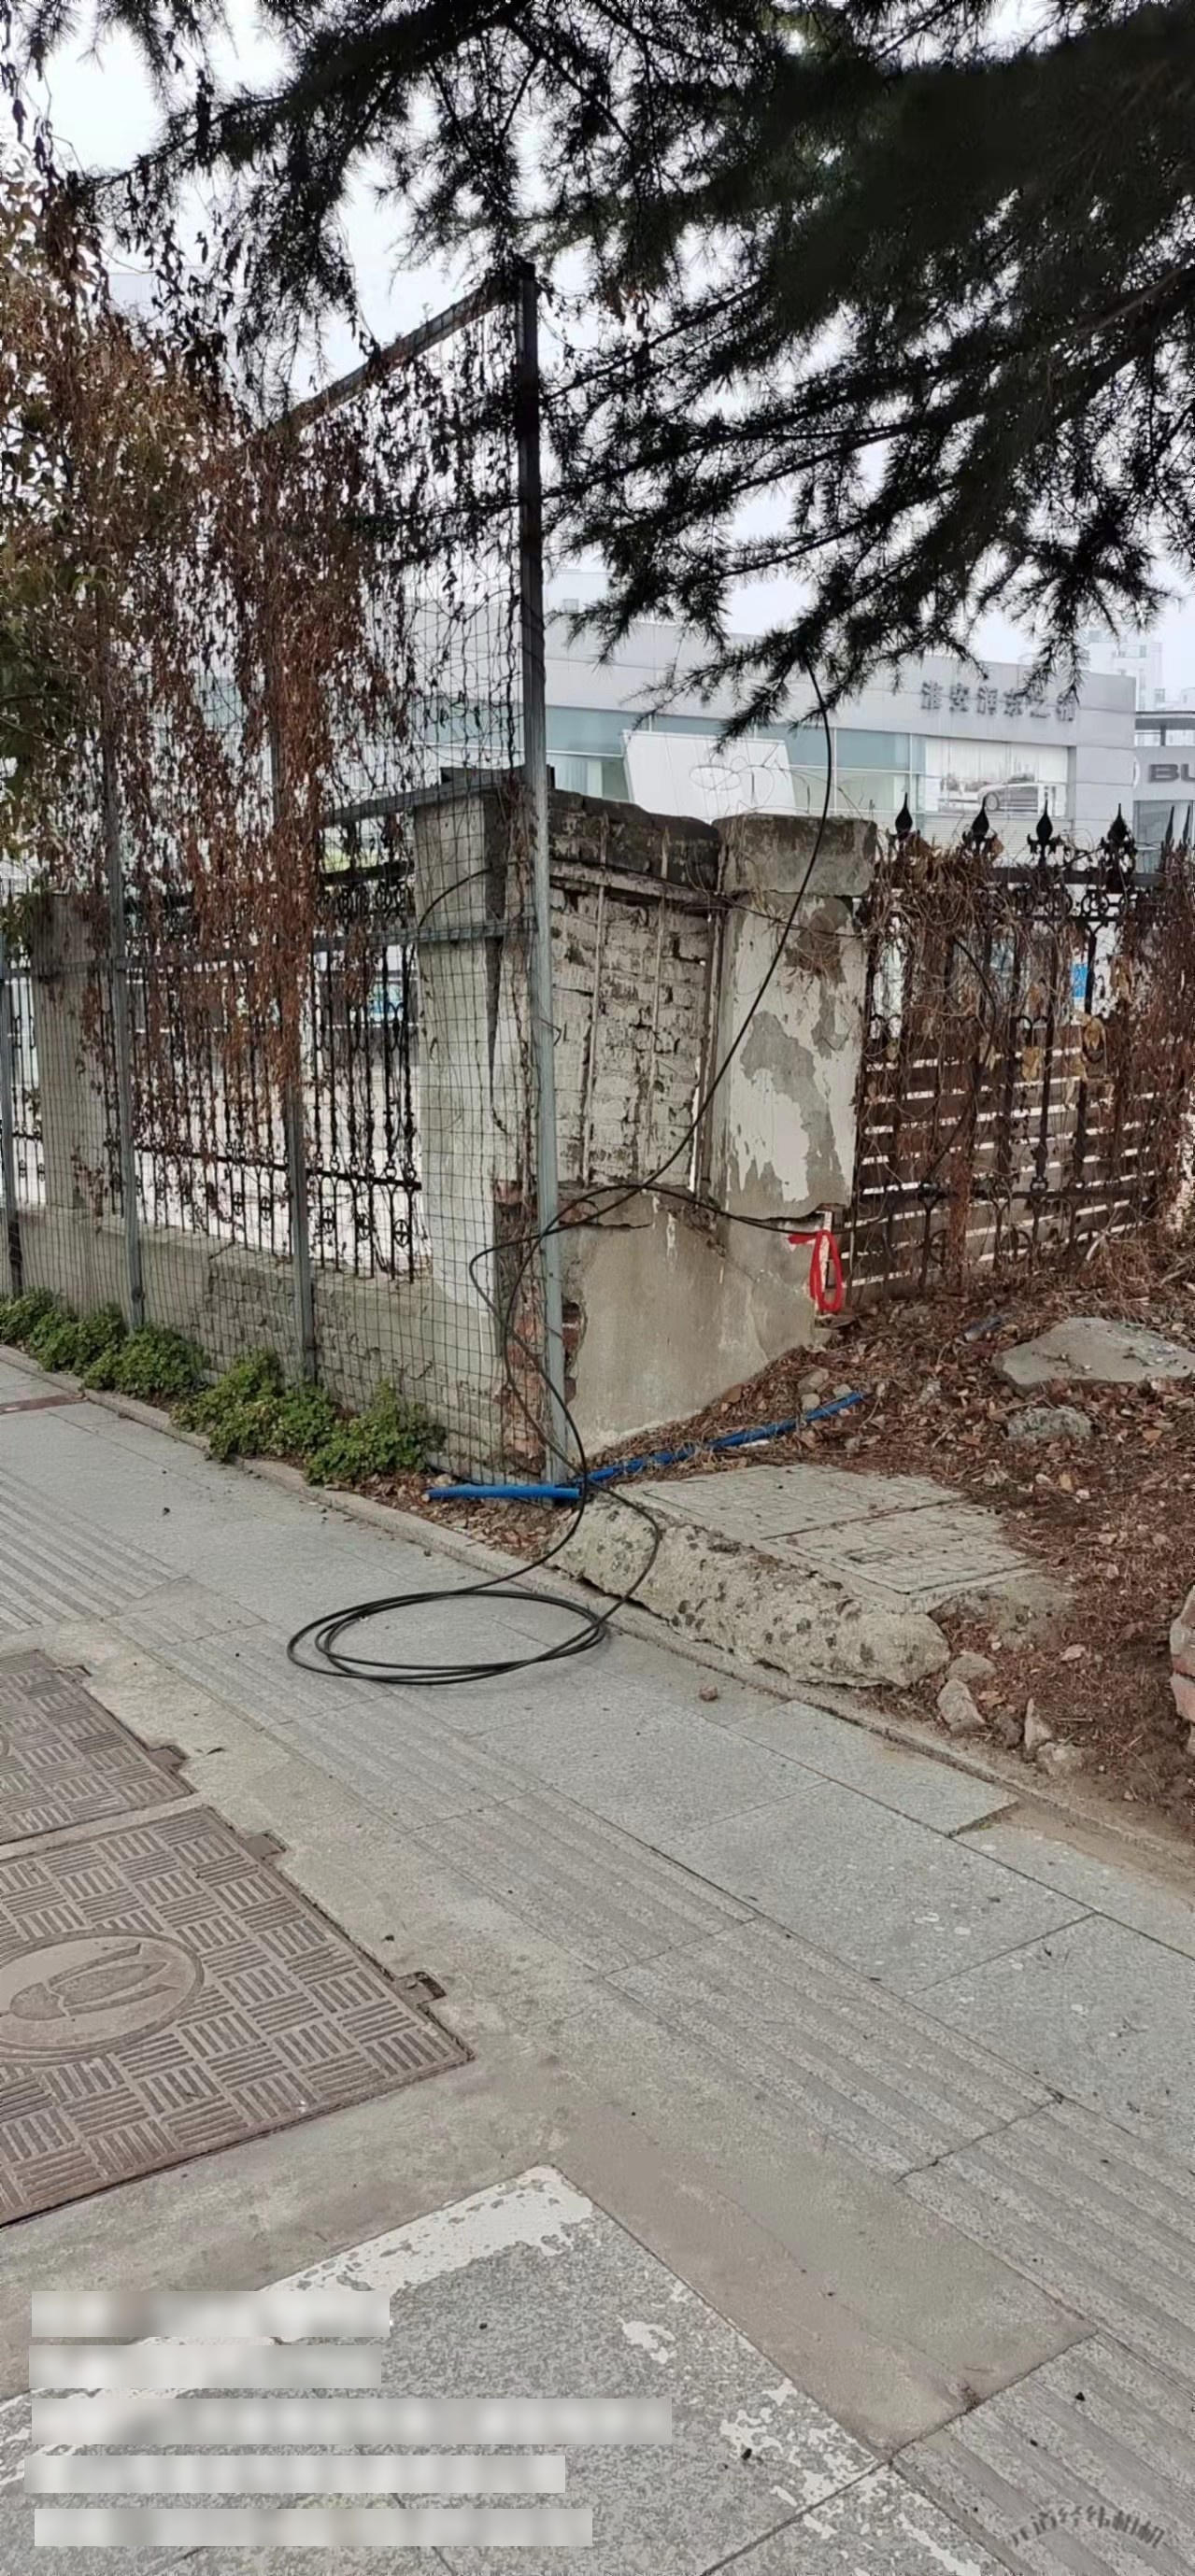good: (23, 2159, 1009, 2576)
